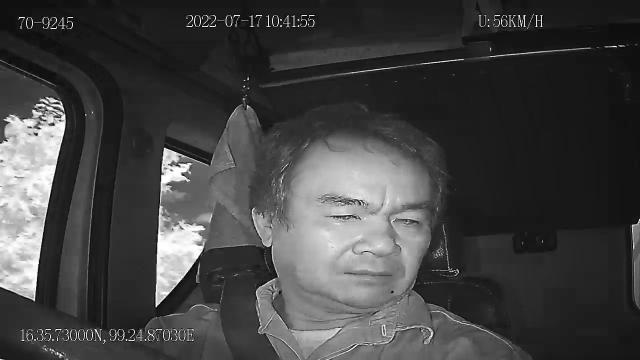SafeDriving: (316, 200, 370, 229), (385, 204, 430, 233)
Seatbelt: (218, 272, 282, 360)
